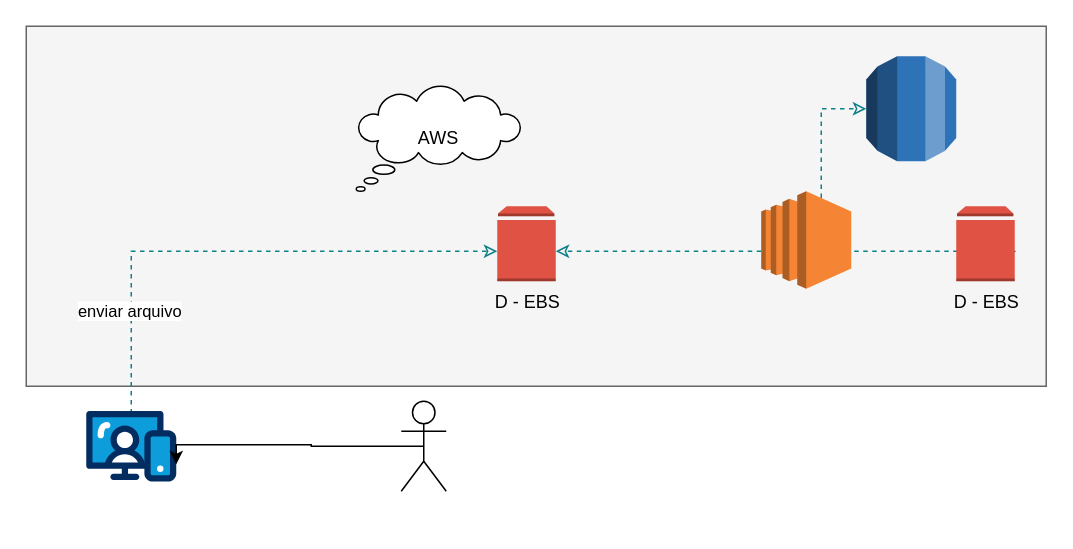
The diagram is 1073 pixels wide and 549 high, and some of its shapes have lost their labels. Here are the shapes that lost their labels. From the top down, the box of each, then its label:
(760, 190, 851, 289): EC2
(400, 400, 446, 491): Actor
